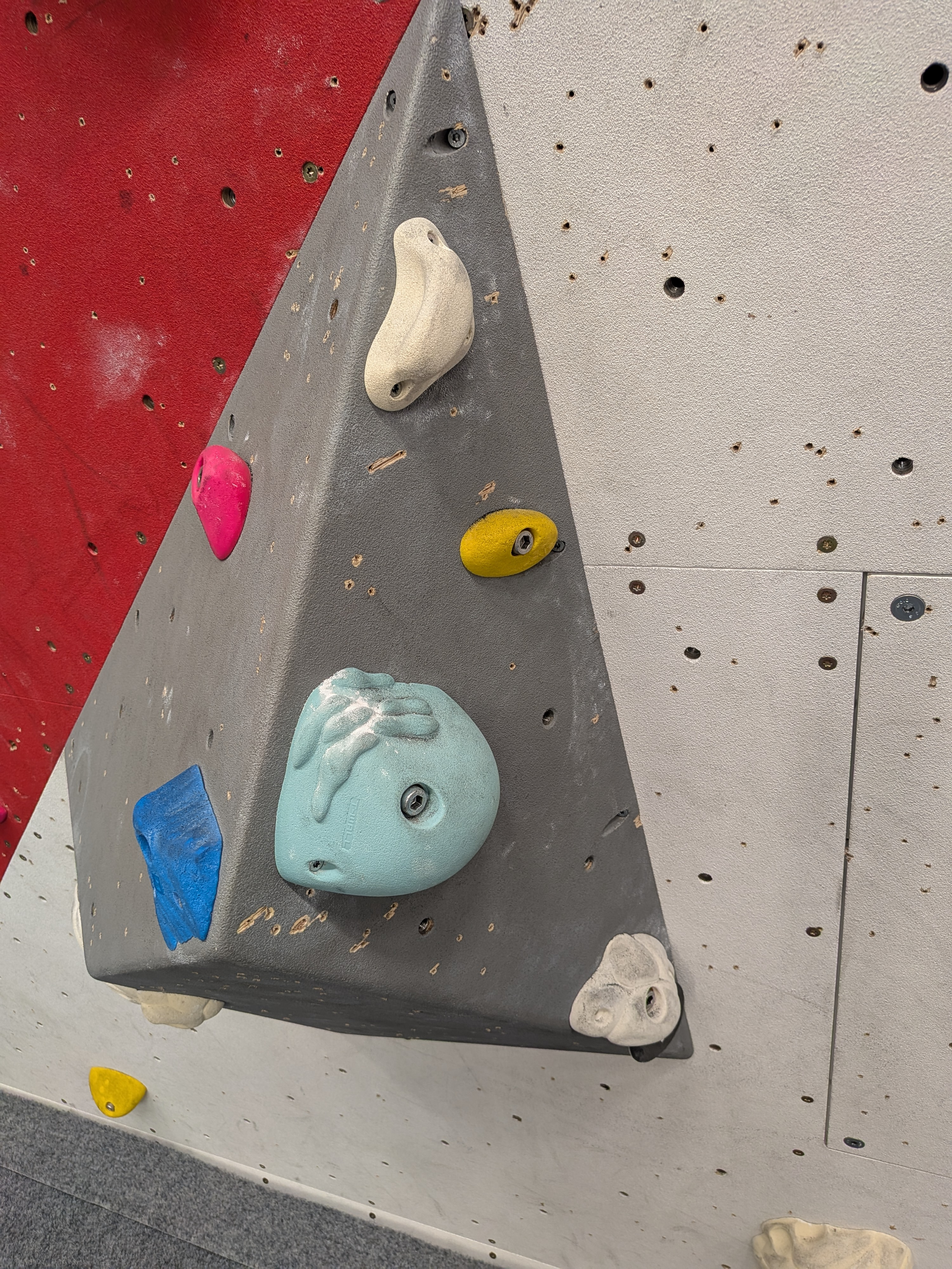hold: (274, 670, 499, 897), (362, 217, 474, 411), (130, 766, 221, 948), (572, 934, 684, 1047), (756, 1218, 916, 1269), (190, 445, 249, 559), (461, 510, 559, 577), (113, 987, 222, 1029), (86, 1067, 142, 1116), (72, 883, 83, 950), (0, 806, 5, 820)
volume: (59, 2, 699, 1067)
